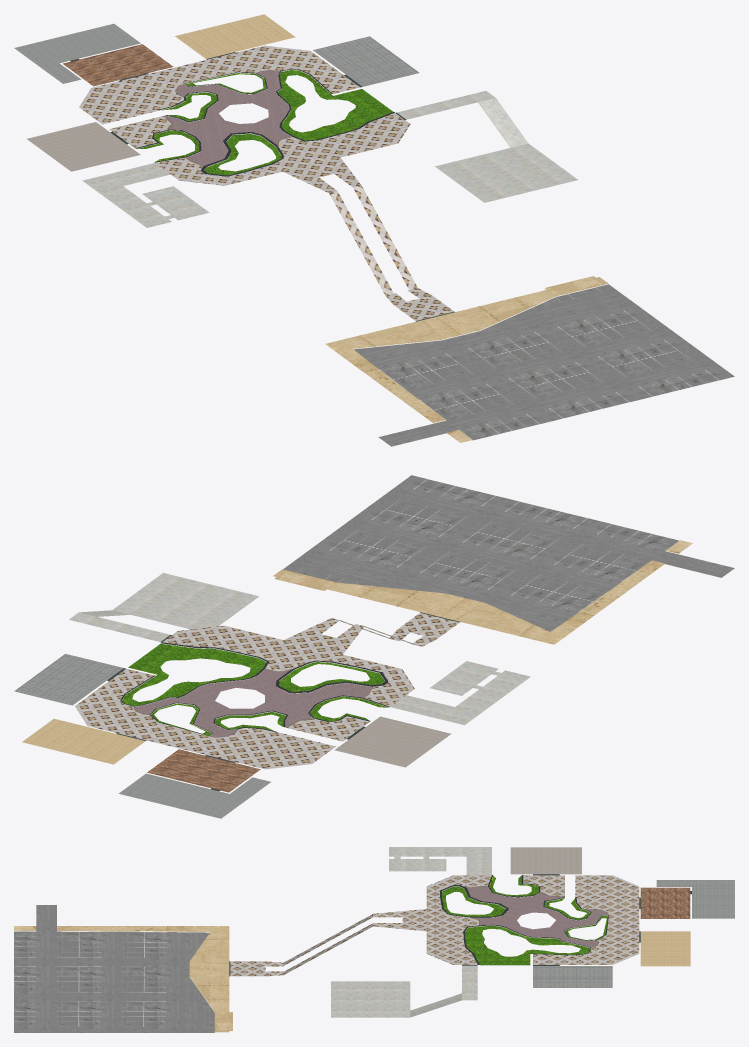
The model's file is PisosMap2.fbx.
3 renders of one model, top to bottom at view 1: azimuth 30°, elevation 25°; view 2: azimuth 150°, elevation 25°; view 3: azimuth 270°, elevation 25°, orthographic. The views are drawn at different scales.
Parts seen in each view (by area): view 1: Plane.005, Plane.086, Plane.006, Plane.093, Plane.094, Plane.087, Plane.096, Plane.092, Plane.095, Plane.089, Plane.090, Plane.091 (+4 smaller); view 2: Plane.005, Plane.086, Plane.006, Plane.093, Plane.087, Plane.094, Plane.096, Plane.092, Plane.095, Plane.089, Plane.090, Plane.091 (+3 smaller); view 3: Plane.005, Plane.086, Plane.006, Plane.093, Plane.094, Plane.087, Plane.096, Plane.095, Plane.092, Plane.090, Plane.089, Plane.091 (+4 smaller).
Part boxes in pixels (x1,y1,x2,y2): Plane.005: [354, 284, 734, 446]; Plane.086: [79, 45, 410, 193]; Plane.006: [325, 276, 608, 442]; Plane.093: [137, 70, 393, 175]; Plane.094: [435, 143, 577, 202]; Plane.087: [165, 70, 291, 165]; Plane.096: [82, 163, 209, 227]; Plane.092: [14, 23, 140, 83]; Plane.095: [27, 122, 140, 171]; Plane.089: [313, 36, 419, 86]; Plane.090: [175, 14, 295, 58]; Plane.091: [63, 44, 173, 86]; Plane.005: [283, 475, 734, 631]; Plane.086: [75, 618, 414, 769]; Plane.006: [273, 540, 692, 644]; Plane.093: [122, 643, 388, 735]; Plane.087: [134, 669, 371, 737]; Plane.094: [112, 573, 258, 629]; Plane.096: [390, 661, 530, 725]; Plane.092: [118, 773, 270, 818]; Plane.095: [334, 716, 451, 767]; Plane.089: [14, 654, 123, 705]; Plane.090: [22, 718, 145, 764]; Plane.091: [147, 749, 260, 792]; Plane.005: [14, 905, 214, 1032]; Plane.086: [373, 875, 639, 964]; Plane.006: [14, 926, 232, 1032]; Plane.093: [442, 875, 607, 965]; Plane.094: [331, 981, 410, 1017]; Plane.087: [467, 886, 607, 947]; Plane.096: [389, 847, 491, 875]; Plane.095: [510, 847, 581, 874]; Plane.092: [656, 880, 734, 918]; Plane.090: [640, 931, 690, 966]; Plane.089: [533, 966, 612, 987]; Plane.091: [640, 887, 690, 918].
Size of the model in its own units: 12189 by 1833 by 24226.
12 materials, 12 textured.
